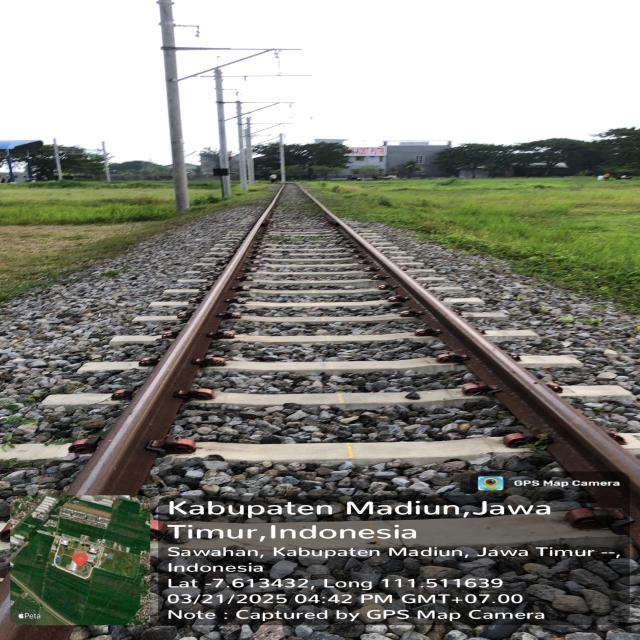rail-detection: (325, 210, 640, 545), (69, 207, 271, 495)
